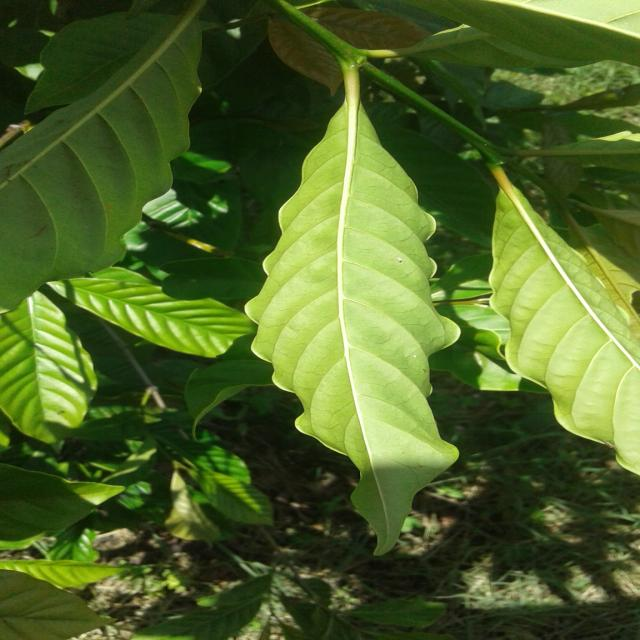Sanas: (246, 113, 466, 560)
